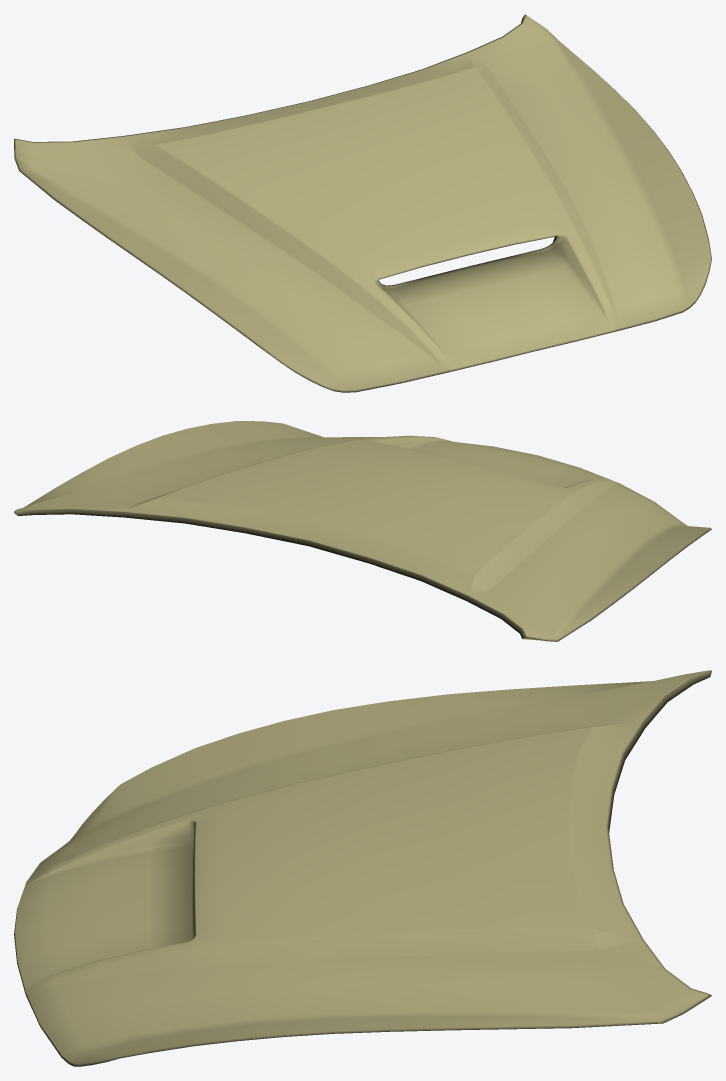
Rendered from G37_Hood_04_Duco.fbx.
3 renders of one model, top to bottom at view 1: azimuth 30°, elevation 25°; view 2: azimuth 150°, elevation 25°; view 3: azimuth 270°, elevation 25°, orthographic. The views are drawn at different scales.
Parts seen in each view (by area): view 1: G37_Hood_04_Duco; view 2: G37_Hood_04_Duco; view 3: G37_Hood_04_Duco.
Boxes of the visible parts, <box> form: G37_Hood_04_Duco: <box>14,14,711,392</box>; G37_Hood_04_Duco: <box>14,421,711,641</box>; G37_Hood_04_Duco: <box>14,670,711,1066</box>.
Bounding box in the file's own units: 150 × 27.41 × 130.
